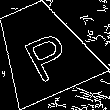P_NW: (12, 19, 74, 81)
